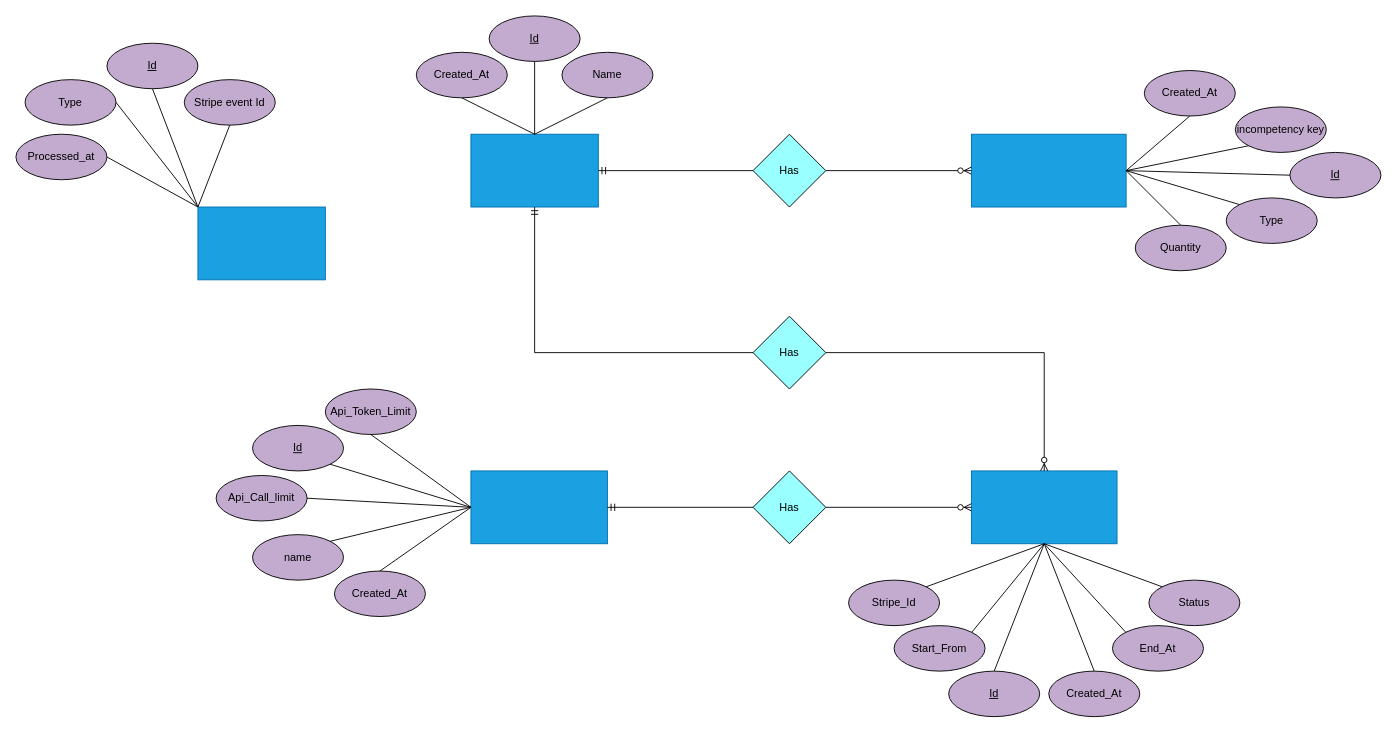
This 1397x733 diagram has some shape labels left out. The centre of each missing label's shape, as x and y in pixels:
Plans: (x=538, y=507)
Stripe Events: (x=261, y=243)
Subscription: (x=1044, y=507)
Tenants: (x=534, y=170)
Usage Events: (x=1048, y=170)
